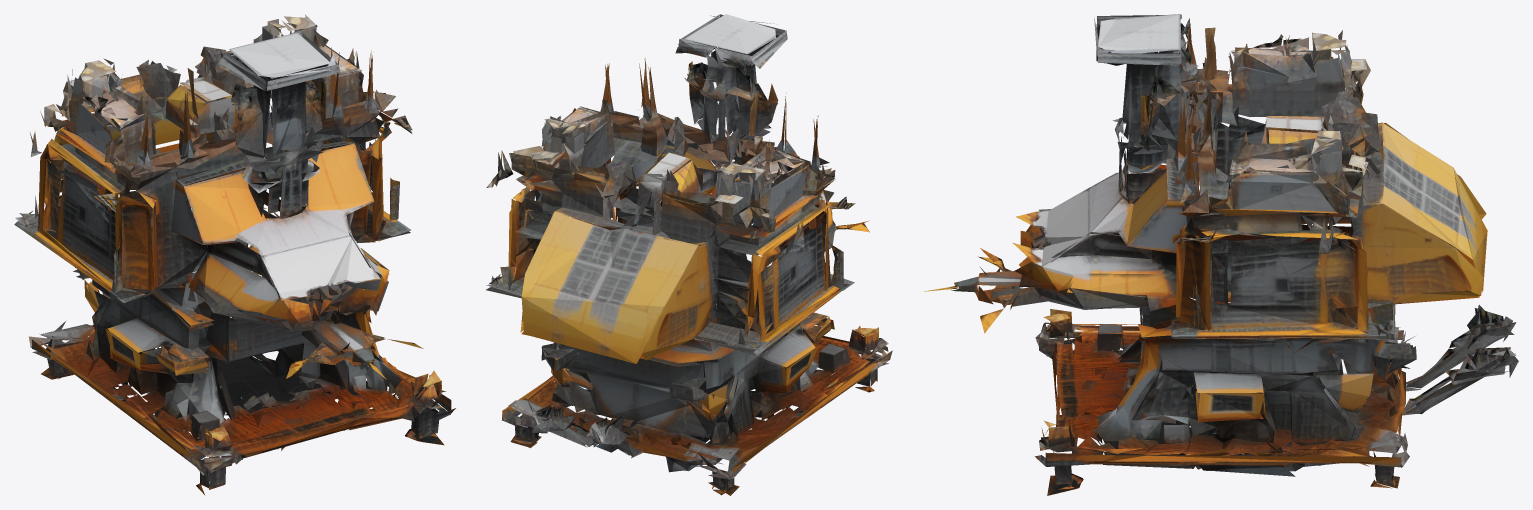
The model's file is drone_factory_t1.fbx.
3 renders of one model, left to right at view 1: azimuth 30°, elevation 25°; view 2: azimuth 150°, elevation 25°; view 3: azimuth 270°, elevation 25°, orthographic. The views are drawn at different scales.
Parts seen in each view (by area): view 1: drone_factory_t1; view 2: drone_factory_t1; view 3: drone_factory_t1.
Part boxes in pixels (<box>): drone_factory_t1: <box>14,14,455,494</box>; drone_factory_t1: <box>486,14,892,495</box>; drone_factory_t1: <box>924,14,1518,495</box>.
Bounding box in the file's own units: 2.99 × 3.44 × 4.5.
Materials: 1 (1 with a texture image).
